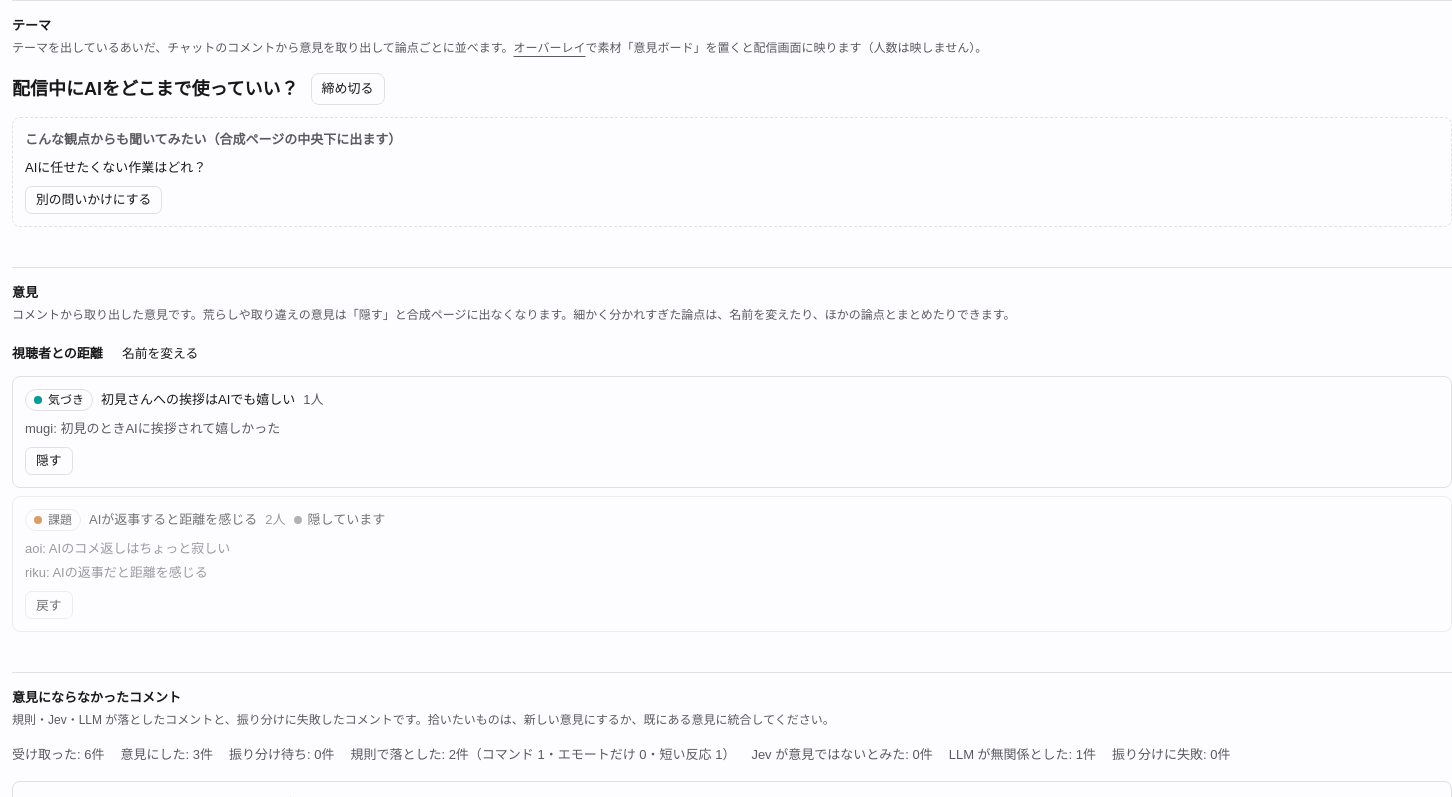
Scenario: 問いかけ › いまの問いかけを出し、別の問いかけに替えさせられる
The width and height of the screenshot is (1452, 797).
Expected: the text "AIに任せたくない作業はどれ？" is shown, left=25, top=160, right=206, bottom=175
Click the button "別の問いかけにする": click(94, 200) left=25, top=186, right=162, bottom=214
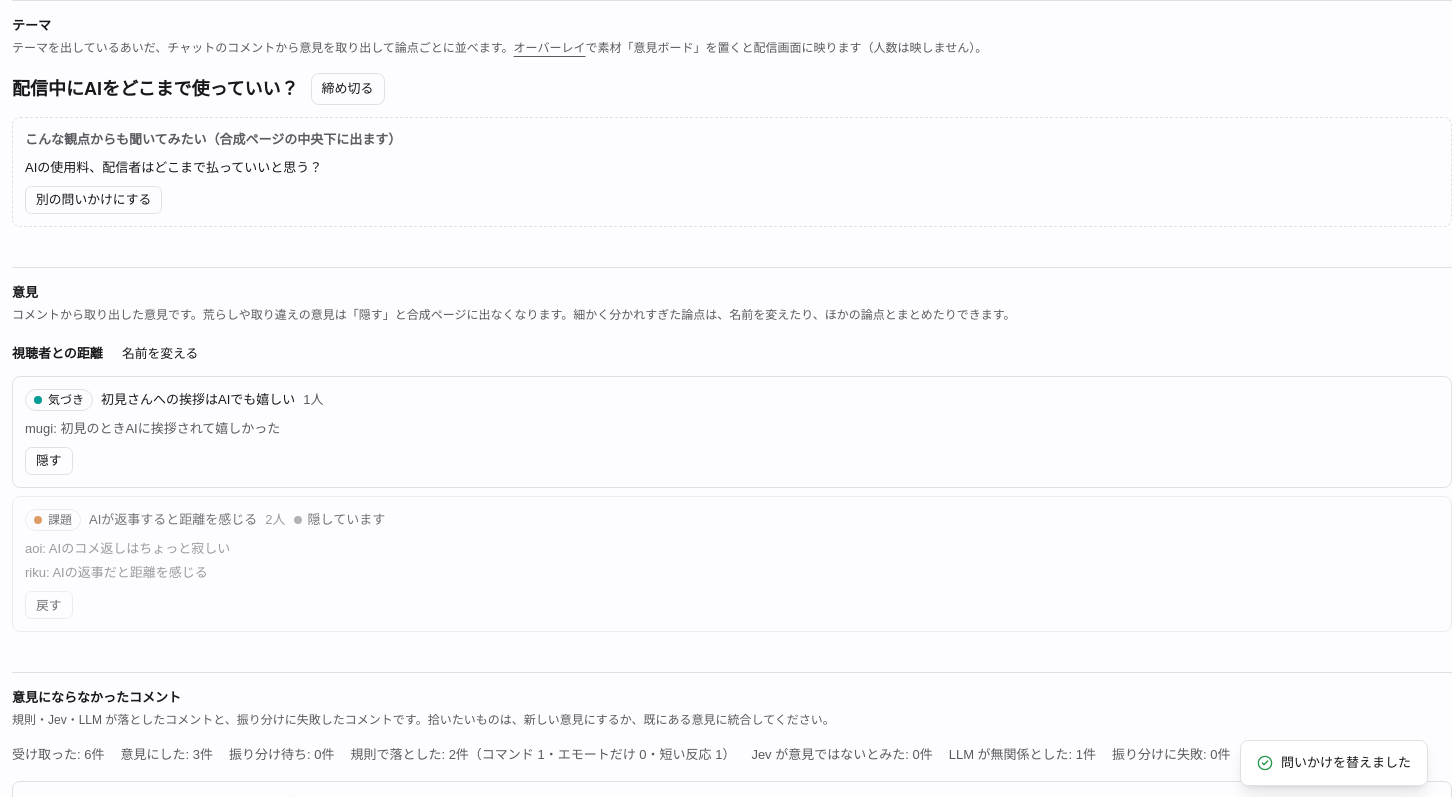
Result: the text "AIの使用料、配信者はどこまで払っていいと思う？" is shown at left=25, top=160, right=322, bottom=175
